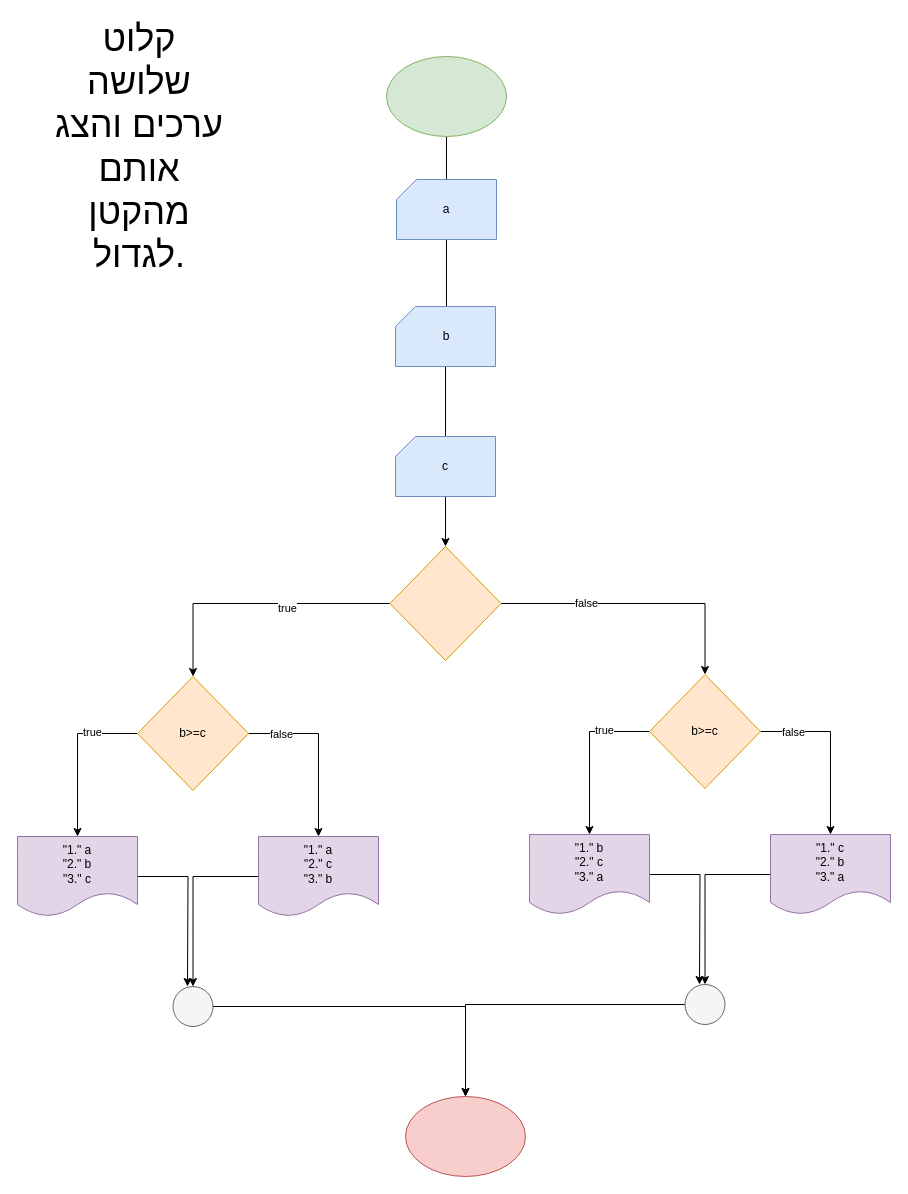
The diagram is 908 pixels wide and 1194 high, and some of its shapes have lost their labels. The centre of each missing label's shape, as x and y in pixels:
"a>=b && a>=c" belongs at (445,603).
"start" belongs at (446,96).
"stop" belongs at (465,1136).
